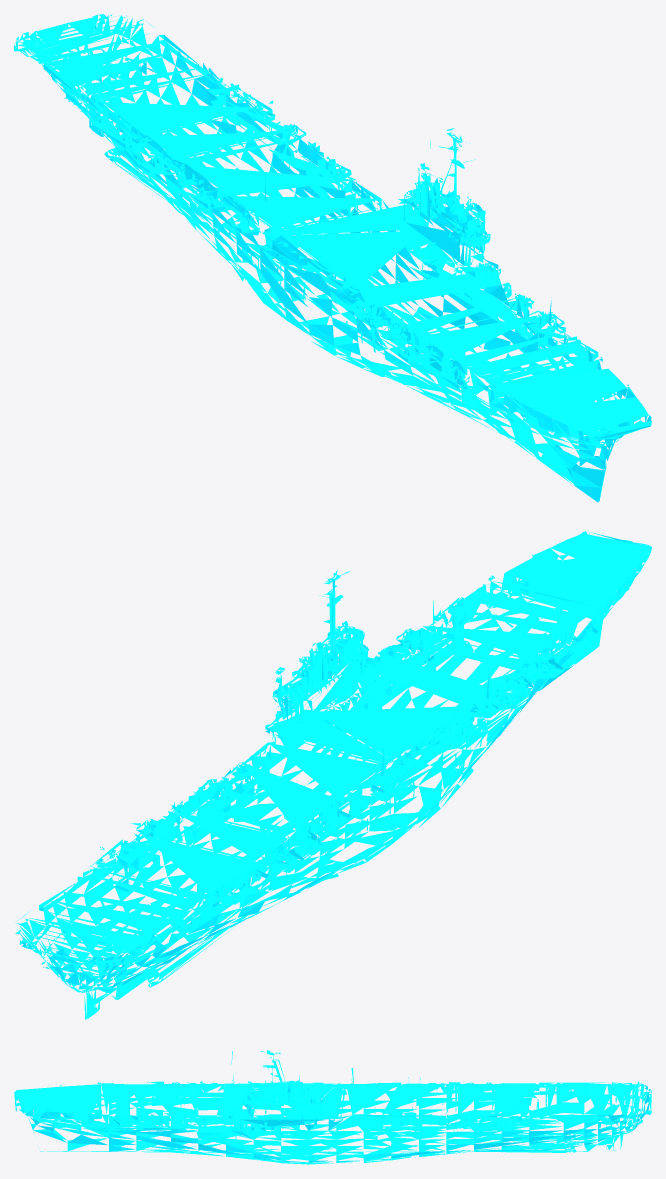
Rendered from Theseus.glb.
The picture shows the model from 3 angles, top to bottom: view 1: azimuth 30°, elevation 25°; view 2: azimuth 150°, elevation 25°; view 3: azimuth 270°, elevation 25°; orthographic projection. The views are drawn at different scales.
Bounding box in the file's own units: 2.46 × 2.9 × 14.12.
